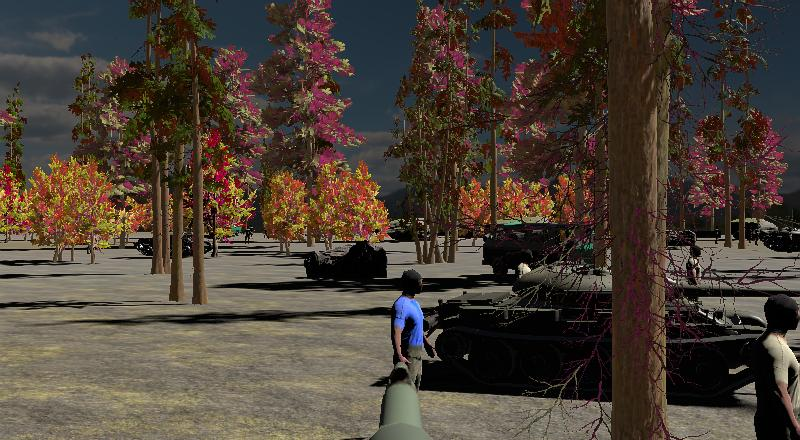Human: (746, 289, 800, 440), (390, 266, 438, 429)
Tank: (431, 254, 799, 396), (129, 228, 214, 260), (759, 220, 800, 253)
